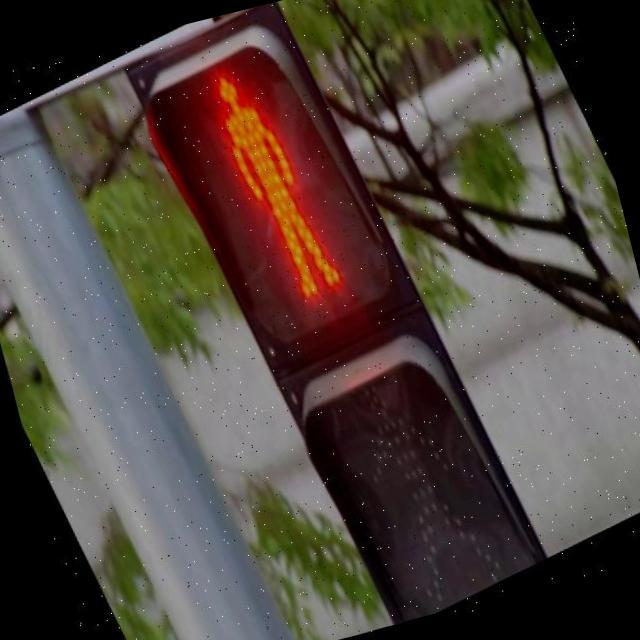redlight: (120, 0, 543, 638)
